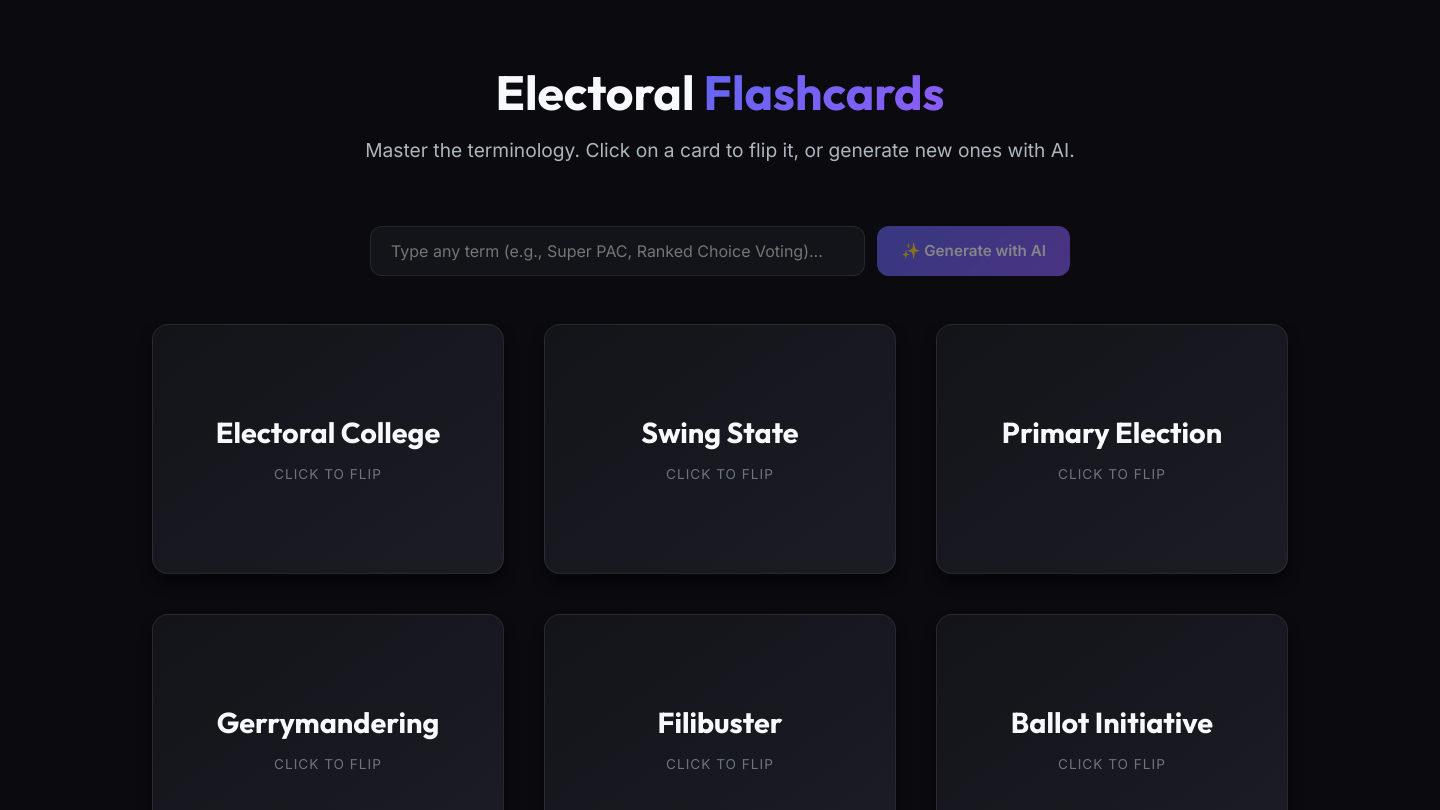
Flashcards Component › shows an error when API fails
In the field with placeholder "Type any term (e.g., Super PAC, Ranked Choice Voting)...": (618,251) [370,226,866,276], type "Bad Term"
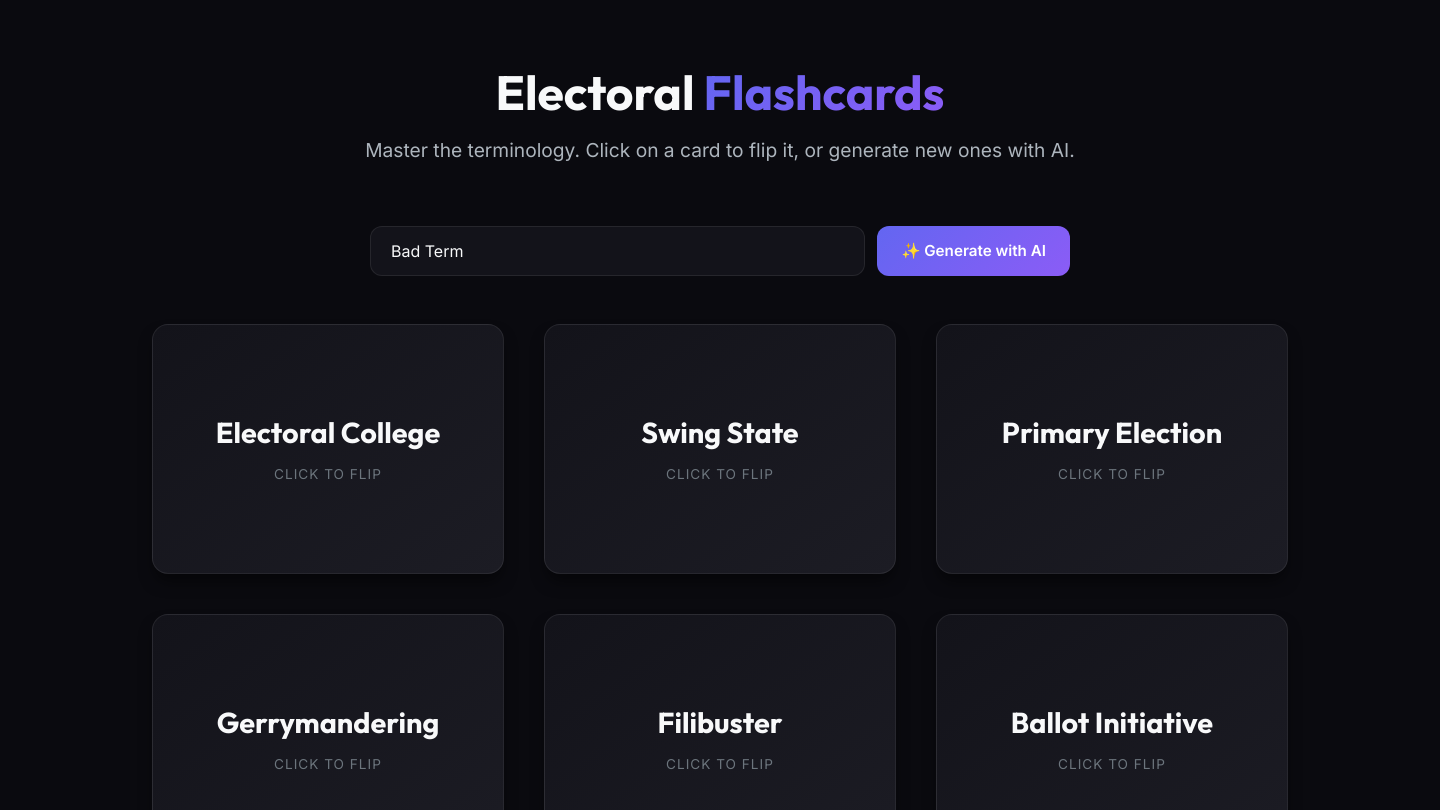
Click the button "✨ Generate with AI": (974,251) [878,226,1070,276]
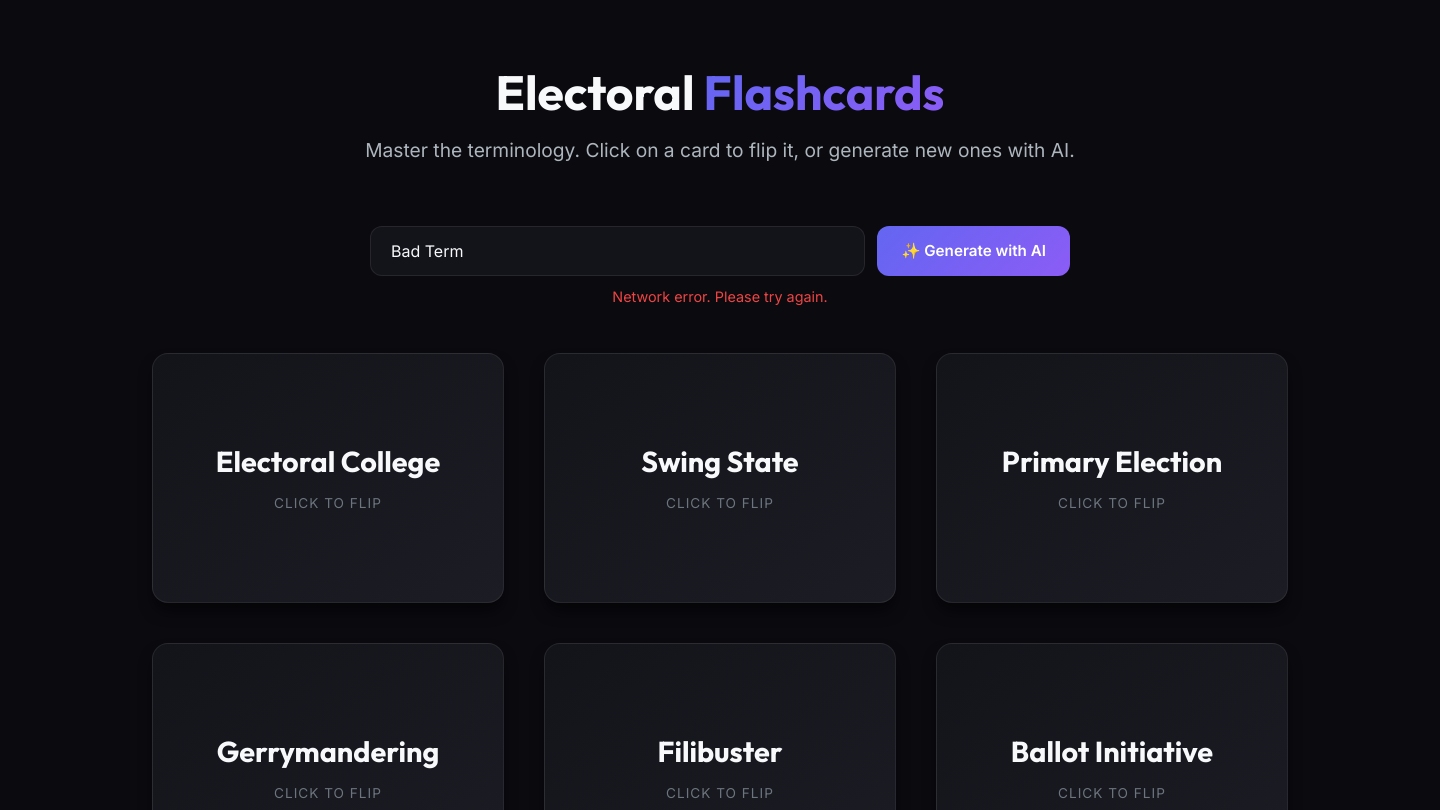
Expected: the message reads "Network error. Please try again.", [612,288,828,305]
